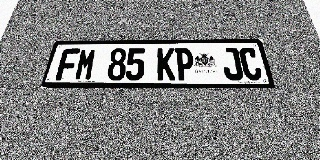5: (125, 48, 145, 80)
8: (106, 48, 128, 80)
C: (238, 48, 263, 80)
F: (55, 49, 80, 81)
J: (220, 48, 244, 80)
K: (157, 48, 175, 80)
M: (74, 48, 97, 81)
P: (175, 48, 195, 80)
